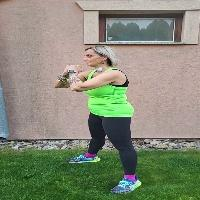squats: (55, 35, 161, 193)
